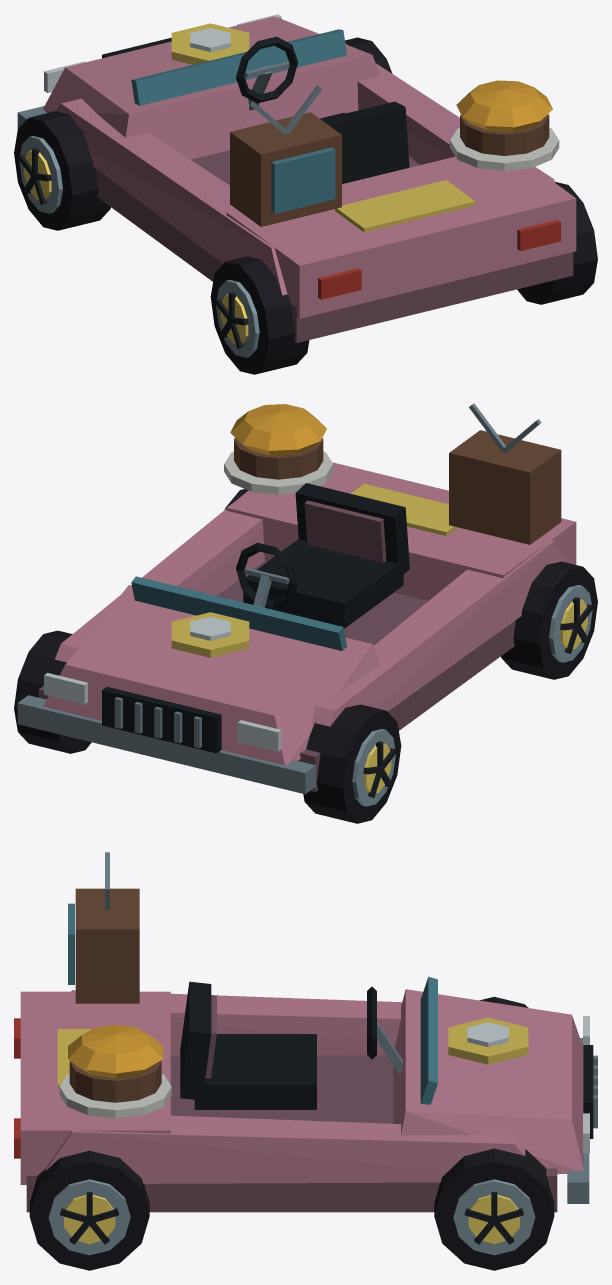
File: kart.glb
The picture shows the model from 3 angles, top to bottom: view 1: azimuth 30°, elevation 25°; view 2: azimuth 150°, elevation 25°; view 3: azimuth 270°, elevation 25°; orthographic projection. The views are drawn at different scales.
Parts seen in each view (by area): view 1: identity-sedan-sedan-road-car-body, identity-sedan-motif-television, wheel-front-left, wheel-rear-left, identity-sedan-motif-food, identity-sedan-driver-cockpit, wheel-rear-right, identity-sedan-motif-badge, wheel-front-right; view 2: identity-sedan-sedan-road-car-body, identity-sedan-driver-cockpit, identity-sedan-motif-television, wheel-front-left, wheel-rear-left, identity-sedan-motif-food, wheel-front-right, identity-sedan-motif-badge; view 3: identity-sedan-sedan-road-car-body, identity-sedan-driver-cockpit, wheel-front-right, wheel-rear-right, identity-sedan-motif-food, identity-sedan-motif-television, identity-sedan-motif-badge.
Part boxes in pixels (left/top/right/bottom): identity-sedan-sedan-road-car-body: left=17, top=14, right=576, bottom=342; identity-sedan-motif-television: left=230, top=85, right=341, bottom=226; wheel-front-left: left=14, top=111, right=110, bottom=230; wheel-rear-left: left=210, top=256, right=309, bottom=374; identity-sedan-motif-food: left=450, top=80, right=559, bottom=171; identity-sedan-driver-cockpit: left=236, top=36, right=409, bottom=183; wheel-rear-right: left=517, top=181, right=597, bottom=304; identity-sedan-motif-badge: left=171, top=23, right=249, bottom=64; wheel-front-right: left=345, top=37, right=392, bottom=73; identity-sedan-sedan-road-car-body: left=17, top=462, right=576, bottom=794; identity-sedan-driver-cockpit: left=236, top=483, right=409, bottom=628; identity-sedan-motif-television: left=449, top=403, right=561, bottom=544; wheel-front-left: left=303, top=704, right=401, bottom=823; wheel-rear-left: left=501, top=561, right=597, bottom=679; identity-sedan-motif-food: left=224, top=404, right=333, bottom=494; wheel-front-right: left=14, top=630, right=91, bottom=753; identity-sedan-motif-badge: left=171, top=612, right=249, bottom=657; identity-sedan-sedan-road-car-body: left=14, top=976, right=597, bottom=1212; identity-sedan-driver-cockpit: left=180, top=981, right=402, bottom=1109; wheel-front-right: left=434, top=1148, right=554, bottom=1270; wheel-rear-right: left=29, top=1150, right=149, bottom=1270; identity-sedan-motif-food: left=59, top=1024, right=171, bottom=1118; identity-sedan-motif-television: left=68, top=852, right=139, bottom=1003; identity-sedan-motif-badge: left=448, top=1017, right=528, bottom=1064.
Bounding box in the file's own units: 2.07 × 1.46 × 2.92.
